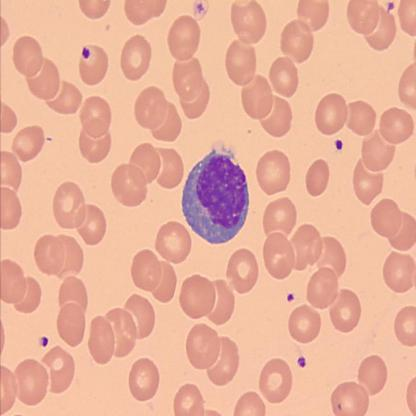Atypical lymphocyte: (181, 146, 250, 244)
